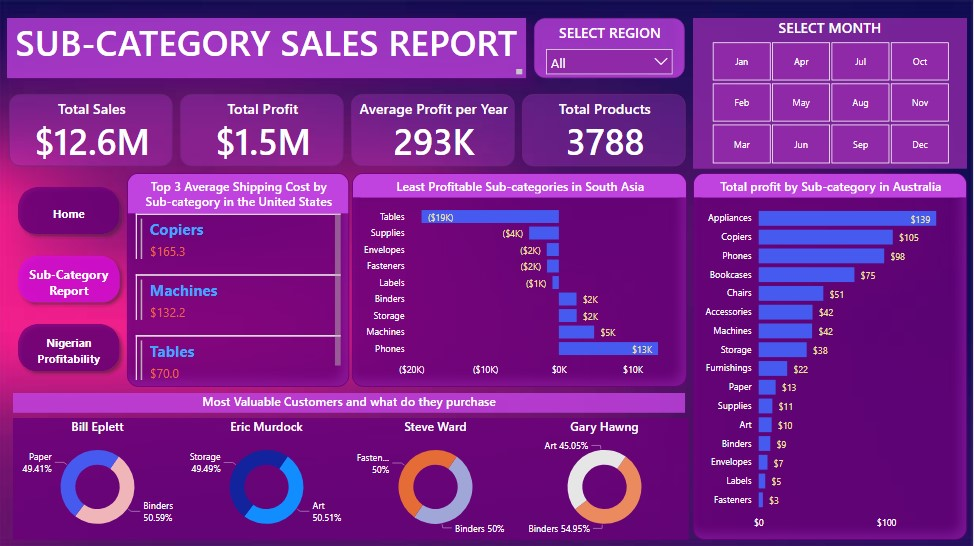

The dashboard page shown, as its layout file describes it:
{"tool":"powerbi","page":{"name":"Sub-Category Report","canvas":[1280,720],"ordinal":1},"visuals":[{"type":"multiRowCard","title":"Top 3 Average Shipping Cost by Sub-category in the United States","fields":{"Values":["Orders.Sub-Category","Avg(Orders.Shipping Cost)"]},"box":[169.5,227.3,291.7,281.2],"z":0},{"type":"barChart","title":"Least Profitable Sub-categories in South Asia","fields":{"Category":["Orders.Sub-Category"],"Y":["Sum(Orders.Profit)"]},"box":[465.1,227.3,440.1,281.2],"z":1000},{"type":"barChart","title":"Total profit by Sub-category in Australia","fields":{"Category":["Orders.Sub-Category"],"Y":["Avg(Orders.Profit)"]},"box":[913.1,227.3,360,482.2],"z":2000},{"type":"donutChart","title":"Bill Eplett","fields":{"Category":["Orders.Sub-Category"],"Y":["Sum(Orders.Quantity)"]},"box":[19.7,549.2,222,160],"z":3000},{"type":"donutChart","title":"Eric Murdock","fields":{"Category":["Orders.Sub-Category"],"Y":["Sum(Orders.Quantity)"]},"box":[241.8,549.2,222,160],"z":4000},{"type":"donutChart","title":"Steve Ward","fields":{"Category":["Orders.Sub-Category"],"Y":["Sum(Orders.Quantity)"]},"box":[463.8,549.2,222,160],"z":5000},{"type":"donutChart","title":"Gary Hawng","fields":{"Category":["Orders.Sub-Category"],"Y":["Sum(Orders.Quantity)"]},"box":[685.8,549.2,222,160],"z":6000},{"type":"card","title":"Total Sales","fields":{"Values":["Sum(Orders.Sales)"]},"box":[14.5,123.5,215.5,94.6],"z":7000},{"type":"card","title":"Total Profit","fields":{"Values":["Sum(Orders.Profit)"]},"box":[239.1,123.5,215.5,94.6],"z":8000},{"type":"card","title":"Average Profit per Year","fields":{"Values":["Orders.Average profit per year"]},"box":[463.8,123.5,215.5,94.6],"z":9000},{"type":"card","title":"Total Products","fields":{"Values":["Orders.Total Products"]},"box":[688.5,123.5,215.5,94.6],"z":10000},{"type":"textbox","title":"SUB-CATEGORY SALES REPORT","box":[11.7,23.5,681.9,78.7],"z":11000},{"type":"slicer","title":"SELECT REGION","fields":{"Values":["Orders.Region"]},"box":[703.7,23.5,197.7,78.7],"z":12000},{"type":"slicer","title":"SELECT MONTH","fields":{"Values":["Calender.Month"]},"box":[913.1,23.5,360.2,197.7],"z":13000},{"type":"textbox","title":"Most Valuable Customers  and what they purchase","box":[19.7,516.4,882.9,26.3],"z":14000},{"type":"pageNavigator","box":[16.8,236.5,152.7,261.7],"z":15000},{"type":"cardVisual","fields":{"Data":["CountNonNull(Orders.Quantity)"]},"box":[82.2,585.5,110.7,88.9],"z":15001},{"type":"cardVisual","fields":{"Data":["CountNonNull(Orders.Quantity)"]},"box":[302,583.8,110.7,88.9],"z":15002},{"type":"cardVisual","fields":{"Data":["CountNonNull(Orders.Quantity)"]},"box":[523.4,583.8,110.7,88.9],"z":15003},{"type":"cardVisual","fields":{"Data":["CountNonNull(Orders.Quantity)"]},"box":[746.5,583.8,110.7,88.9],"z":15004}]}

Visuals, with their boxes in screenshot pixels (x1, y1, x2, y2), scaled from the page's 1280x720 canvas onto the 974x546 screenshot:
"Top 3 Average Shipping Cost by Sub-category in the United States" multiRowCard: (129, 172, 351, 386)
"Least Profitable Sub-categories in South Asia" barChart: (354, 172, 689, 386)
"Total profit by Sub-category in Australia" barChart: (695, 172, 969, 538)
"Bill Eplett" donutChart: (15, 416, 184, 538)
"Eric Murdock" donutChart: (184, 416, 353, 538)
"Steve Ward" donutChart: (353, 416, 522, 538)
"Gary Hawng" donutChart: (522, 416, 691, 538)
"Total Sales" card: (11, 94, 175, 165)
"Total Profit" card: (182, 94, 346, 165)
"Average Profit per Year" card: (353, 94, 517, 165)
"Total Products" card: (524, 94, 688, 165)
"SUB-CATEGORY SALES REPORT" textbox: (9, 18, 528, 78)
"SELECT REGION" slicer: (535, 18, 686, 78)
"SELECT MONTH" slicer: (695, 18, 969, 168)
"Most Valuable Customers  and what they purchase" textbox: (15, 392, 687, 412)
pageNavigator: (13, 179, 129, 378)
cardVisual - CountNonNull(Orders.Quantity): (63, 444, 147, 511)
cardVisual - CountNonNull(Orders.Quantity): (230, 443, 314, 510)
cardVisual - CountNonNull(Orders.Quantity): (398, 443, 483, 510)
cardVisual - CountNonNull(Orders.Quantity): (568, 443, 652, 510)
